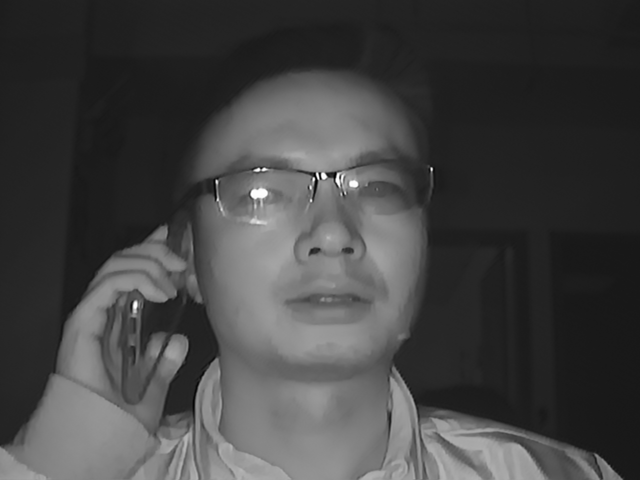hand: (52, 226, 190, 416)
